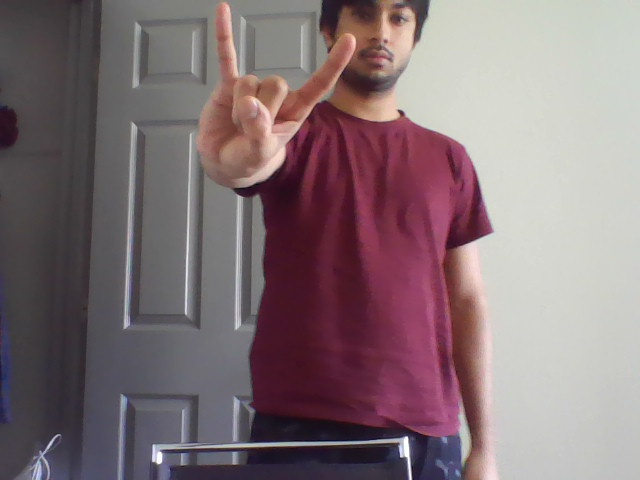help: (202, 2, 358, 126)
